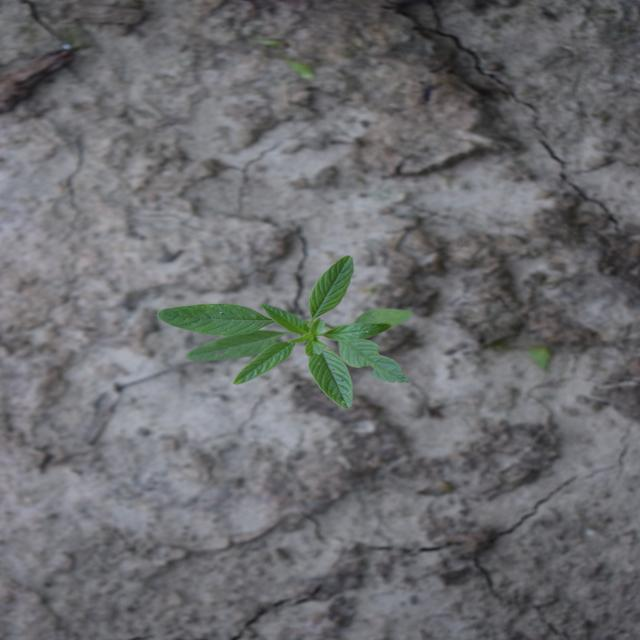Waterhemp: (153, 253, 417, 411)
